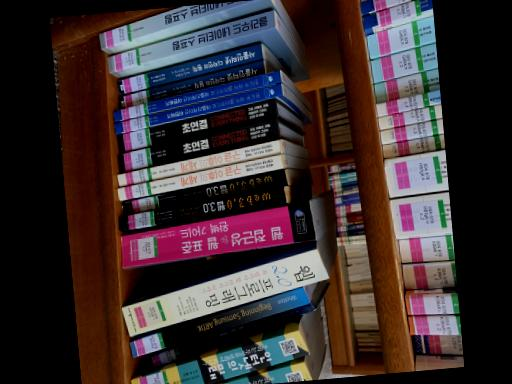book-spine: (120, 249, 328, 337), (119, 201, 315, 268), (127, 287, 308, 358), (143, 303, 314, 371), (106, 9, 274, 73), (129, 330, 309, 384), (116, 117, 279, 173), (115, 98, 276, 153), (112, 70, 280, 122), (113, 83, 281, 133), (97, 0, 255, 50), (120, 169, 287, 216), (116, 154, 282, 200), (115, 140, 280, 186), (115, 43, 262, 94), (117, 187, 285, 231), (117, 59, 263, 108), (221, 362, 311, 384)
